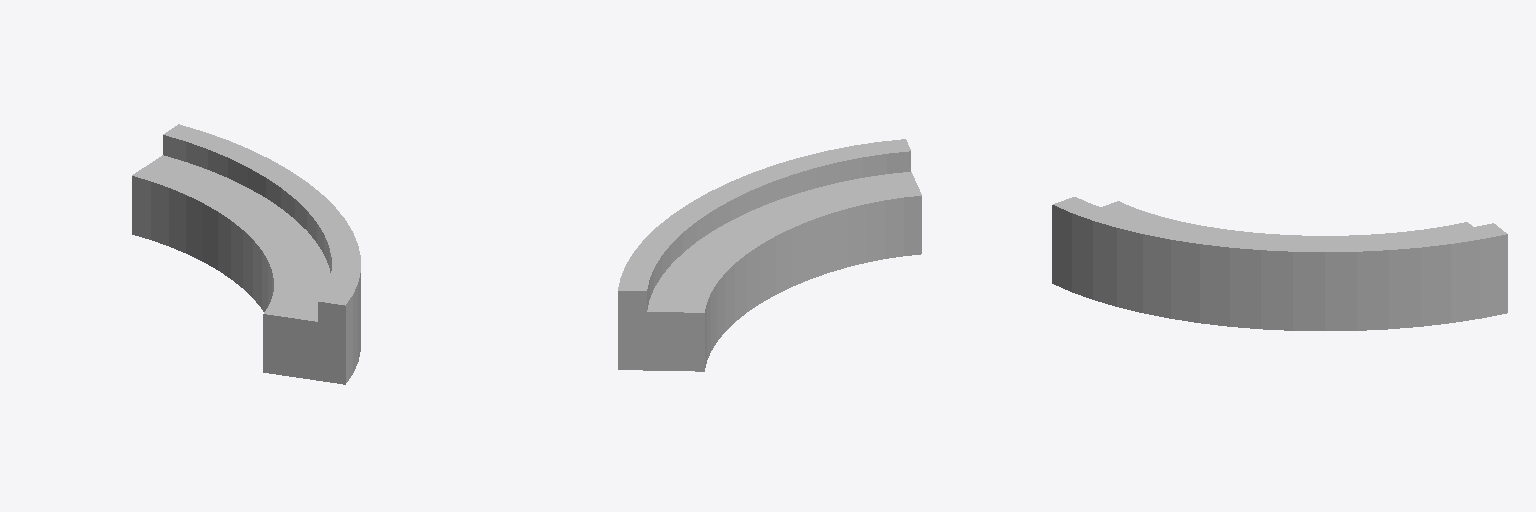
The model's file is TableEntrance.obj.
The picture shows the model from 3 angles: view 1: azimuth 30°, elevation 25°; view 2: azimuth 150°, elevation 25°; view 3: azimuth 270°, elevation 25°; orthographic projection.
Visible parts, largest first — view 1: Circle.022_Circle.015; view 2: Circle.022_Circle.015; view 3: Circle.022_Circle.015.
Boxes of the visible parts, box(x1,y1,x2,y2) form: Circle.022_Circle.015: box(132, 124, 360, 384); Circle.022_Circle.015: box(618, 139, 921, 371); Circle.022_Circle.015: box(1052, 197, 1507, 330).
Bounding box in the file's own units: 2.71 × 1.39 × 7.25.